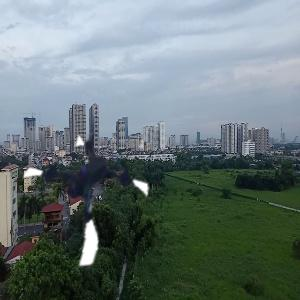drone: (13, 129, 155, 271)
